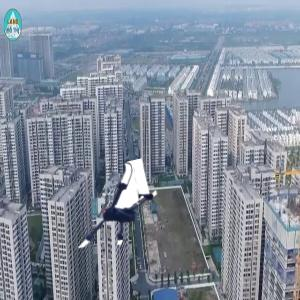drone: (68, 167, 163, 262)
